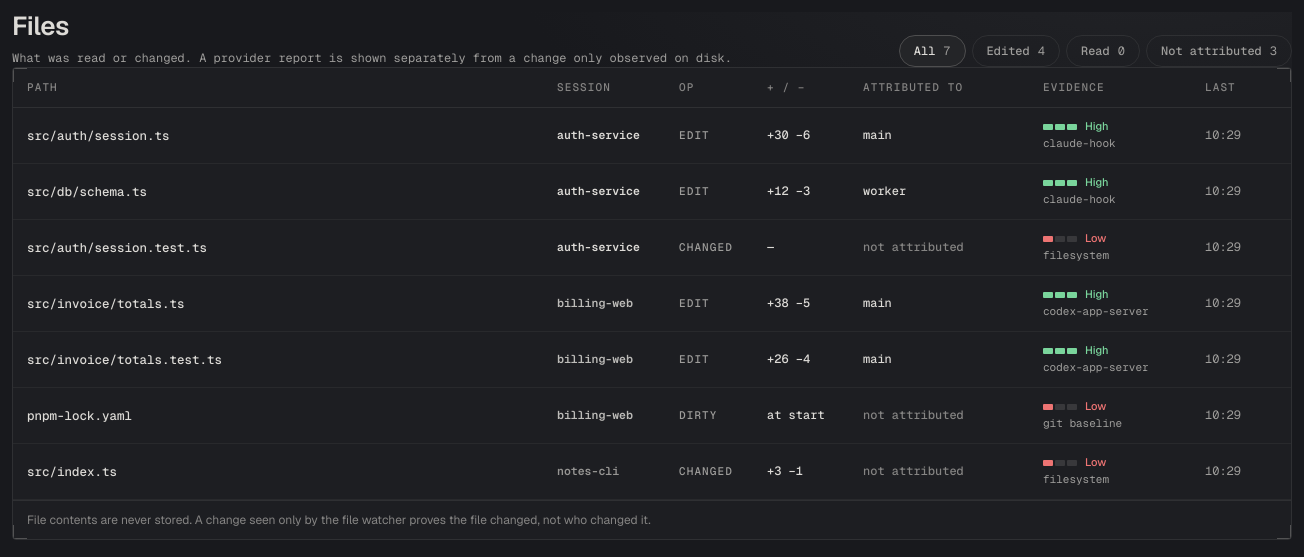
it: Files page › explains an empty filter
The image size is (1304, 557).
Check: the text "src/auth/session.ts" is shown, box [27,127,170,144]
Click the button "Read 0" at {"x": 1103, "y": 51}, box [1066,35,1140,67]
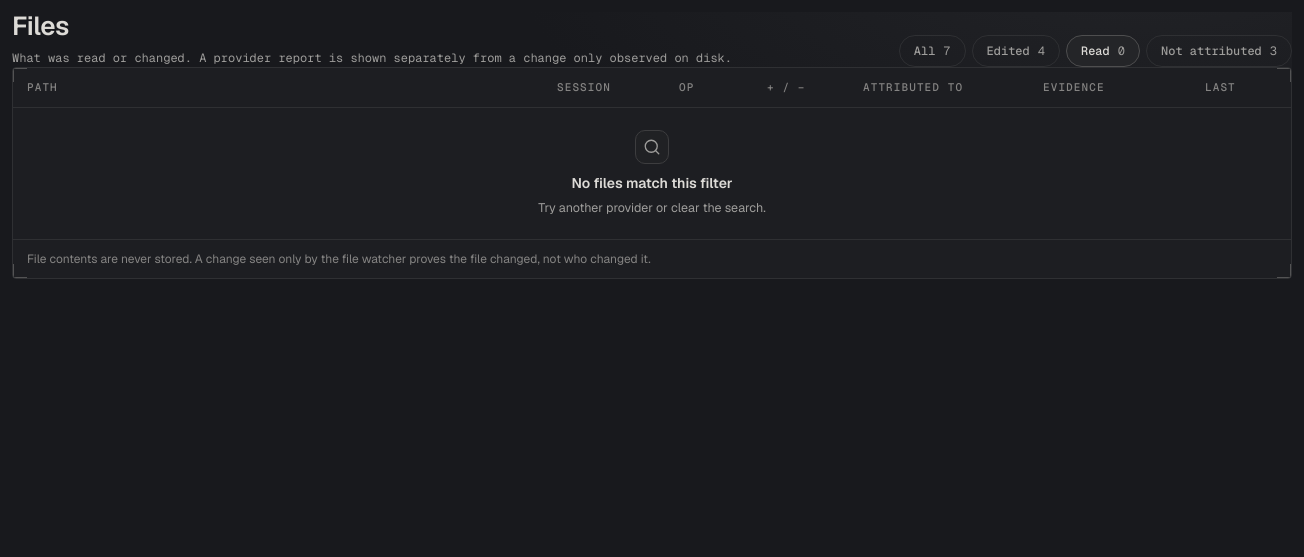
Check: the text "No files match this filter" is shown, box [572,174,732,192]
